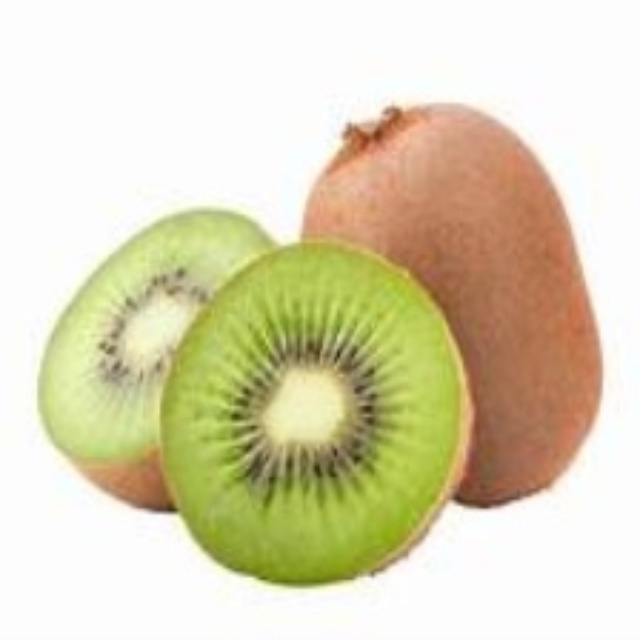kiwi: (320, 109, 598, 510), (168, 241, 473, 576), (32, 202, 271, 511)
